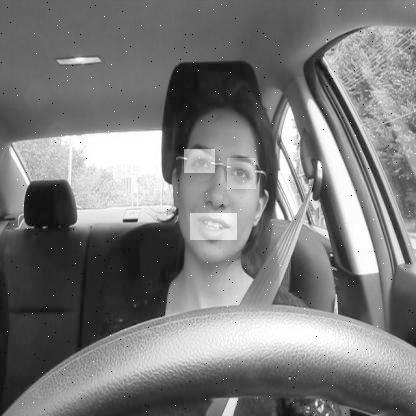seatbelt: (154, 74, 307, 416)
